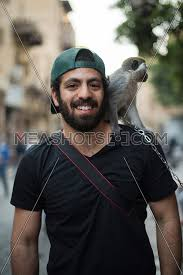middle_eastern_male: (56, 69, 111, 120)
